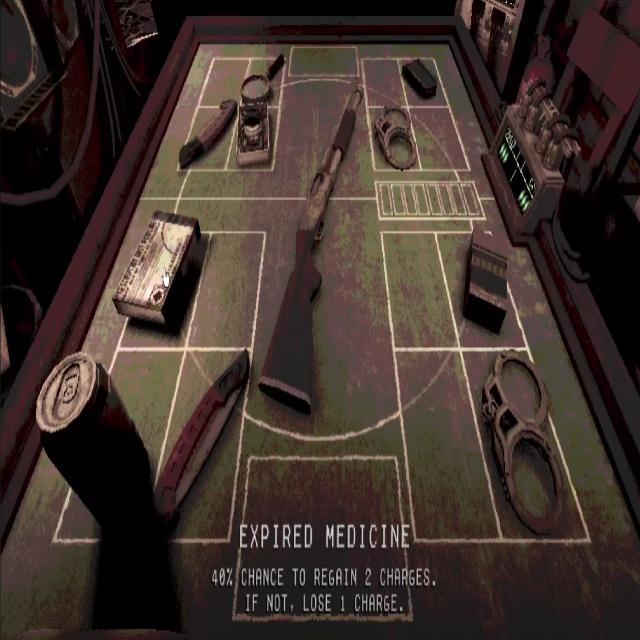changepolarity: (236, 100, 272, 166)
cigar: (459, 223, 512, 332)
doubledamage: (35, 352, 156, 546), (155, 349, 249, 527), (178, 99, 237, 170)
expired-medicine: (112, 212, 201, 329)
handcuff: (478, 351, 564, 535), (373, 105, 418, 171)
lens: (241, 53, 284, 103)
phone: (403, 57, 440, 97)
